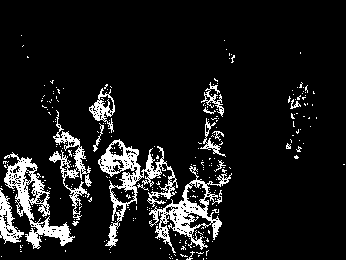person: (2, 152, 70, 245), (99, 137, 139, 250), (50, 128, 91, 225), (139, 148, 177, 252), (168, 180, 218, 254), (191, 129, 233, 202), (290, 80, 312, 163), (92, 83, 116, 148), (202, 73, 223, 131)
